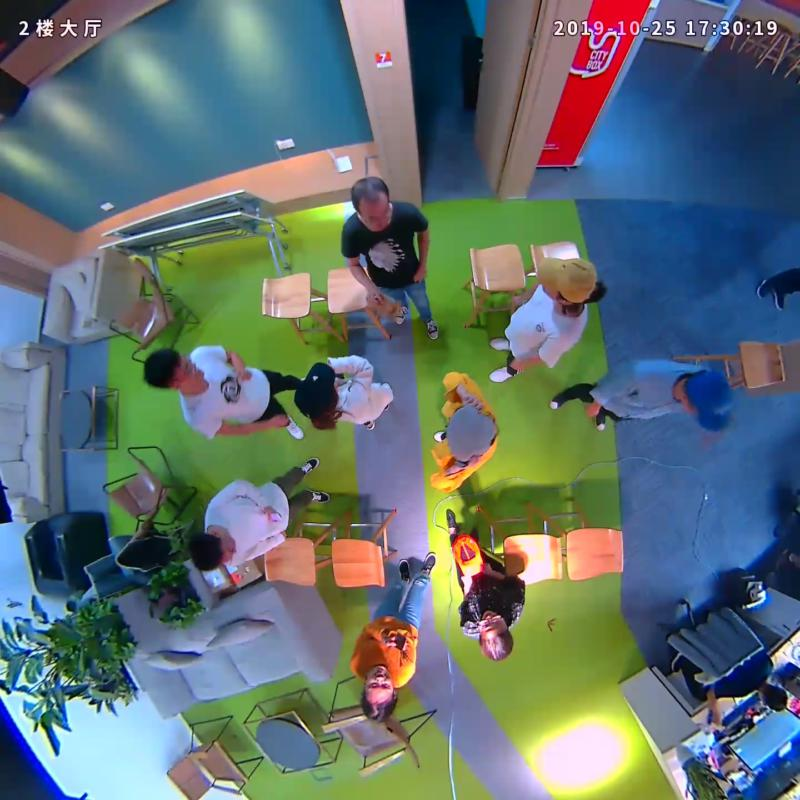head: (682, 369, 735, 432), (535, 256, 598, 305), (445, 401, 496, 460), (142, 348, 205, 391), (293, 362, 341, 416), (358, 664, 400, 723), (350, 177, 392, 229), (477, 609, 515, 663), (187, 532, 235, 572)
